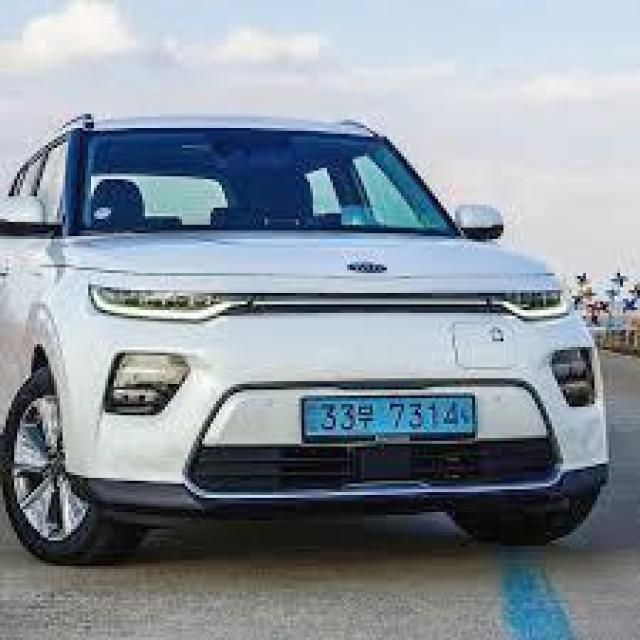EV_plate: (300, 392, 483, 450)
car: (0, 104, 624, 568)
